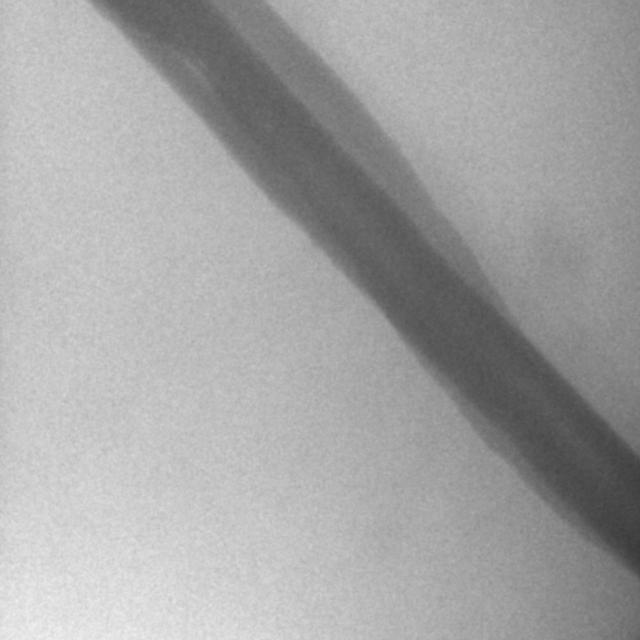unfused: (158, 38, 215, 89)
